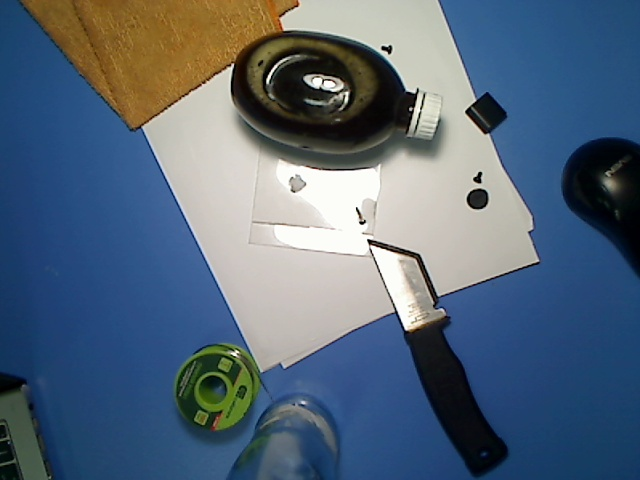plast_bottle: (227, 26, 446, 160)
